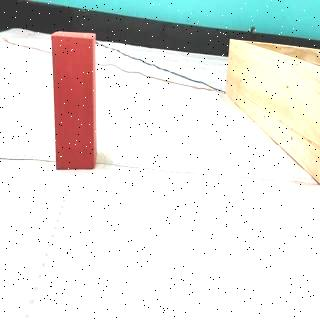redbox: (50, 29, 96, 170)
